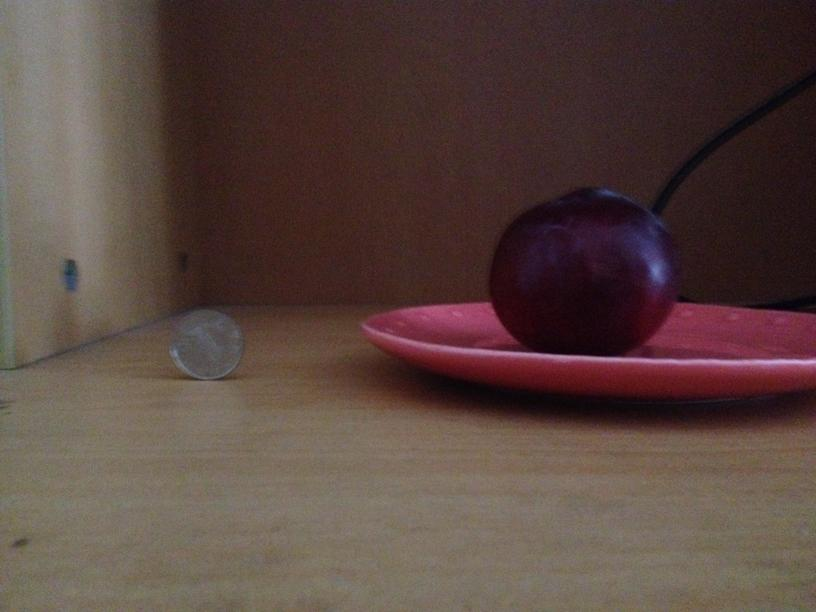coin: (173, 311, 245, 378)
plum: (495, 185, 677, 352)
